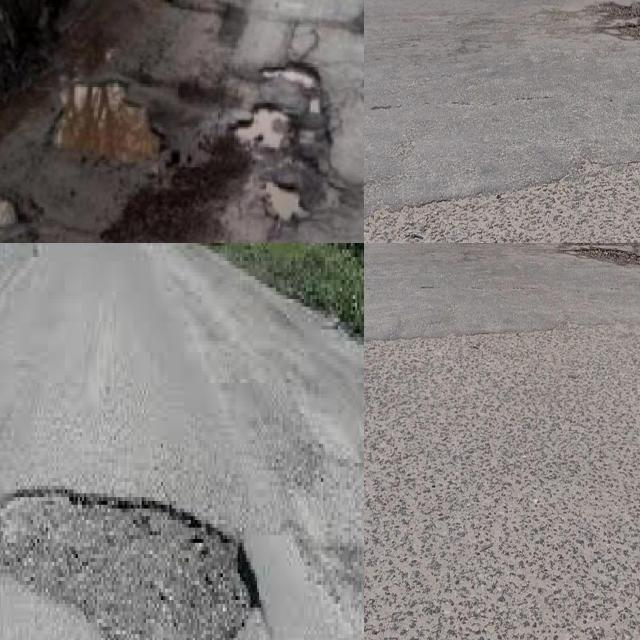Pothole: (0, 490, 265, 640), (43, 80, 168, 174), (235, 106, 289, 151), (558, 243, 640, 269), (595, 0, 640, 45), (263, 181, 311, 223), (262, 61, 322, 91), (0, 193, 26, 226), (311, 100, 323, 114), (303, 132, 314, 141)
